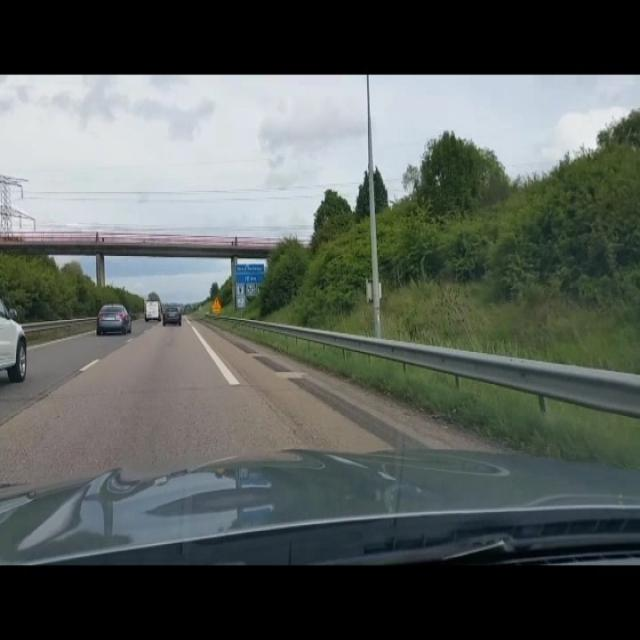indication: (235, 265, 264, 283)
